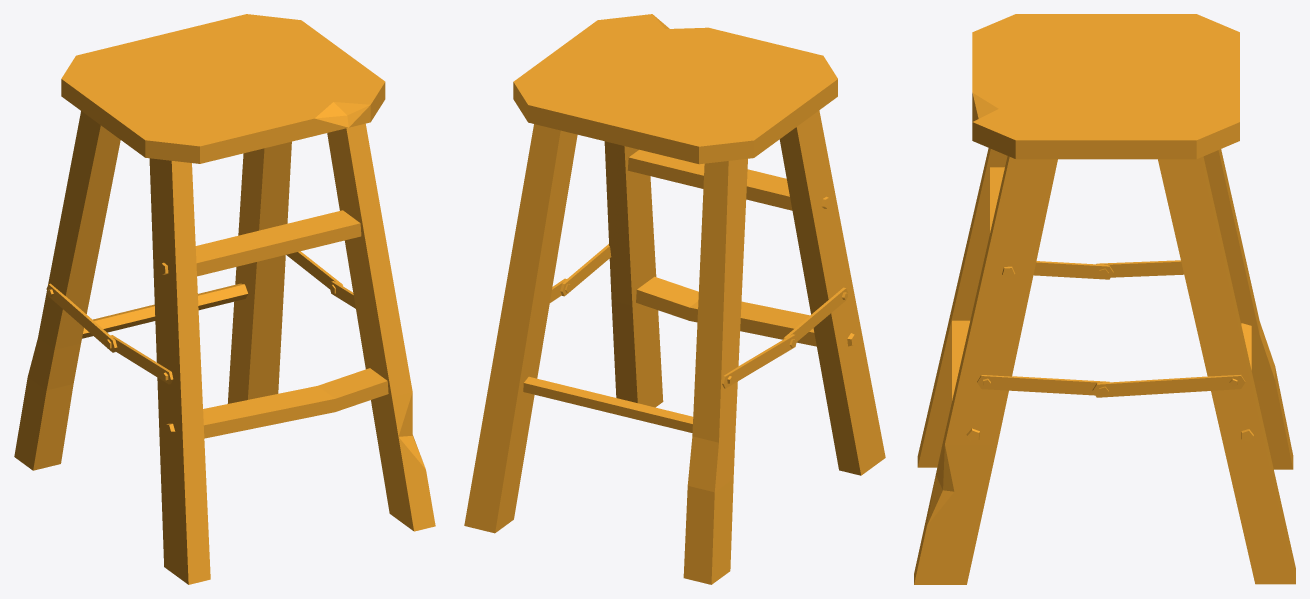
The model's file is SM_Step_Stool_Farm.fbx.
3 views of the same model, side by side, from view 1: azimuth 30°, elevation 25°; view 2: azimuth 150°, elevation 25°; view 3: azimuth 270°, elevation 25° (orthographic). The views are drawn at different scales.
Parts seen in each view (by area): view 1: step-stool-farm; view 2: step-stool-farm; view 3: step-stool-farm.
Boxes of the visible parts, box(x1,y1,x2,y2) form: step-stool-farm: box(14, 14, 435, 584); step-stool-farm: box(464, 14, 885, 584); step-stool-farm: box(914, 14, 1295, 584).
Bounding box in the file's own units: 0.4067 × 0.6503 × 0.508.
